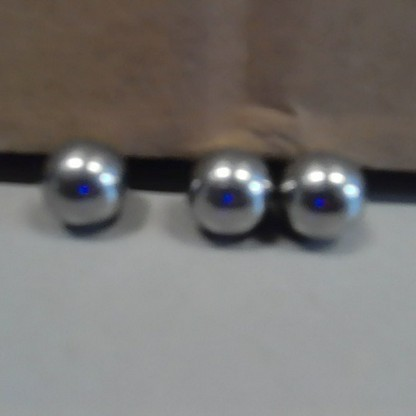ironball: (273, 146, 373, 248), (180, 139, 273, 243), (39, 136, 129, 239)
